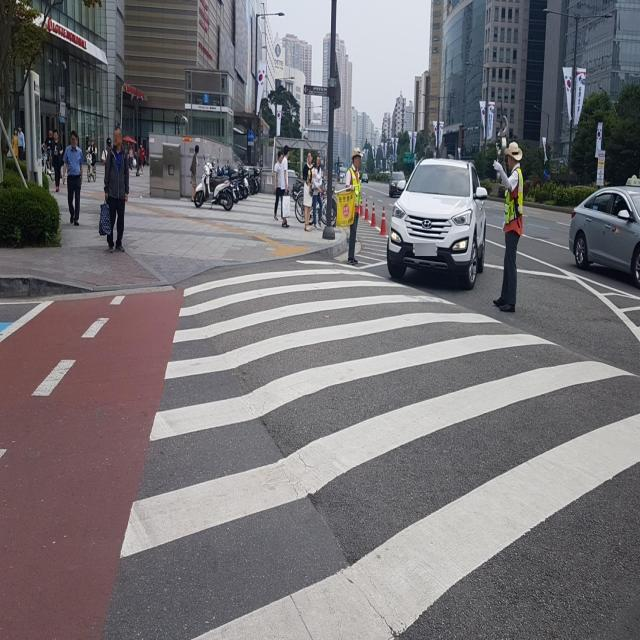횡단보도: (116, 253, 640, 640)
